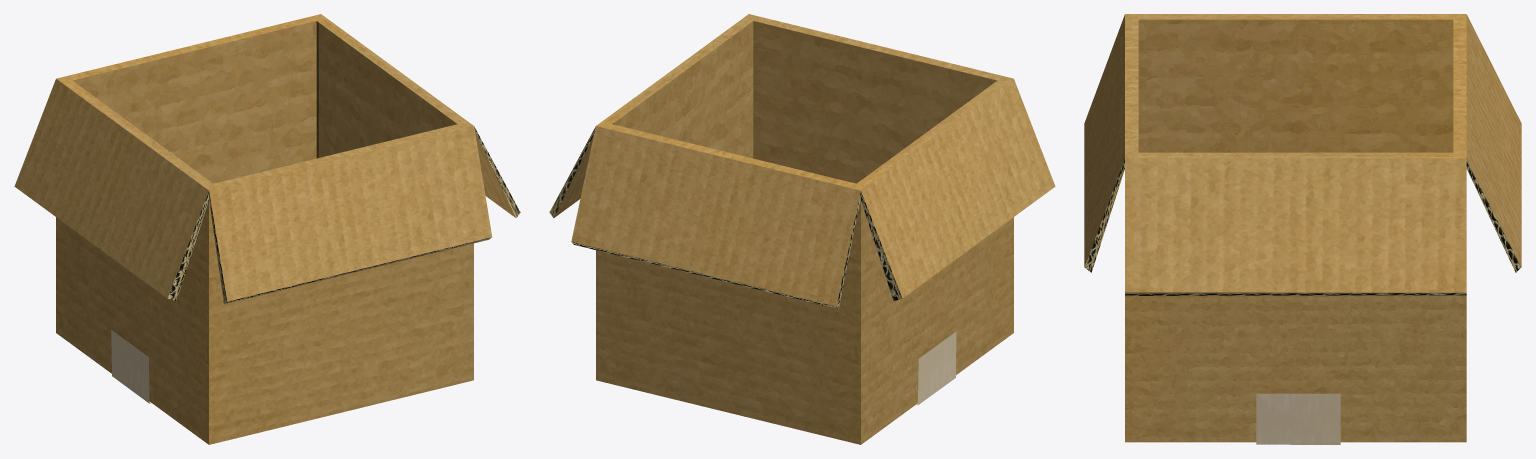
Rendered from Cardboard_Box_2.fbx.
The picture shows the model from 3 angles, left to right: view 1: azimuth 30°, elevation 25°; view 2: azimuth 150°, elevation 25°; view 3: azimuth 270°, elevation 25°; orthographic projection. The views are drawn at different scales.
Visible parts, largest first — view 1: Cardboard_Box2; view 2: Cardboard_Box2; view 3: Cardboard_Box2.
Part boxes in pixels (bbox=[...]): Cardboard_Box2: bbox=[14, 14, 520, 444]; Cardboard_Box2: bbox=[549, 14, 1055, 444]; Cardboard_Box2: bbox=[1084, 14, 1521, 444].
Bounding box in the file's own units: 83.03 × 57.54 × 79.74.
